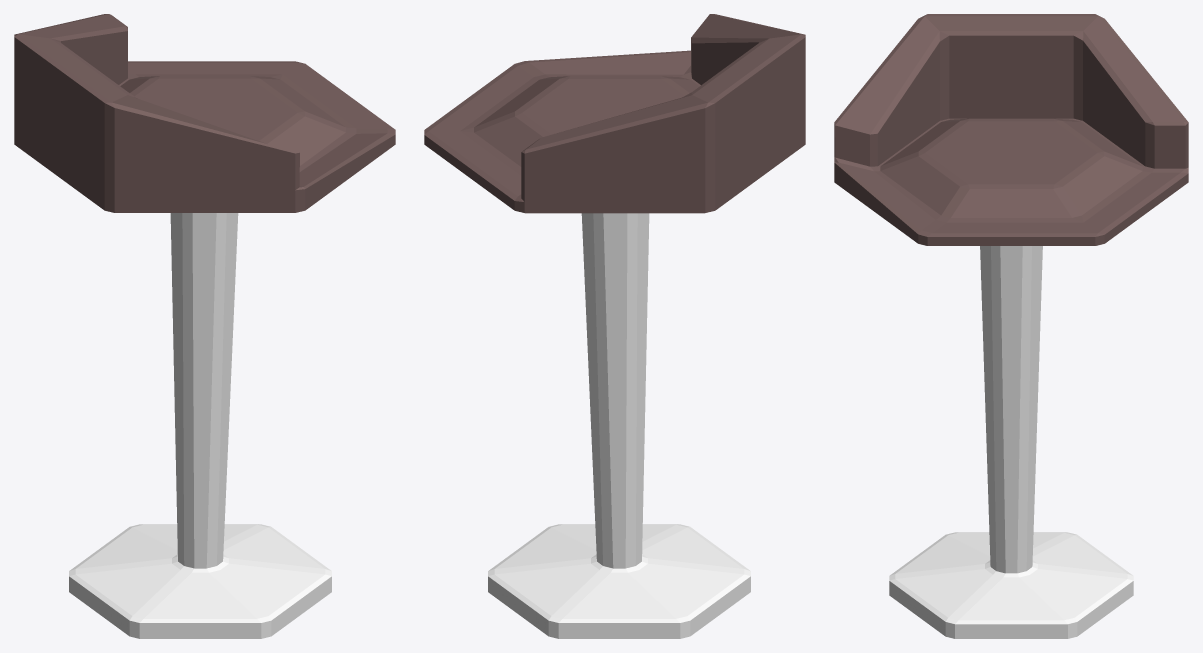
Rendered from Tabouret.fbx.
3 renders of one model, left to right at view 1: azimuth 30°, elevation 25°; view 2: azimuth 150°, elevation 25°; view 3: azimuth 270°, elevation 25°, orthographic. The views are drawn at different scales.
Visible parts, largest first — view 1: Tabouret; view 2: Tabouret; view 3: Tabouret.
Boxes of the visible parts, box(x1,y1,x2,y2) form: Tabouret: box(14, 14, 395, 638); Tabouret: box(424, 14, 805, 638); Tabouret: box(834, 14, 1188, 638).
Bounding box in the file's own units: 49.81 × 90.84 × 56.51.
